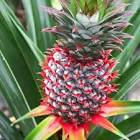Pineapple: (40, 1, 132, 124)
